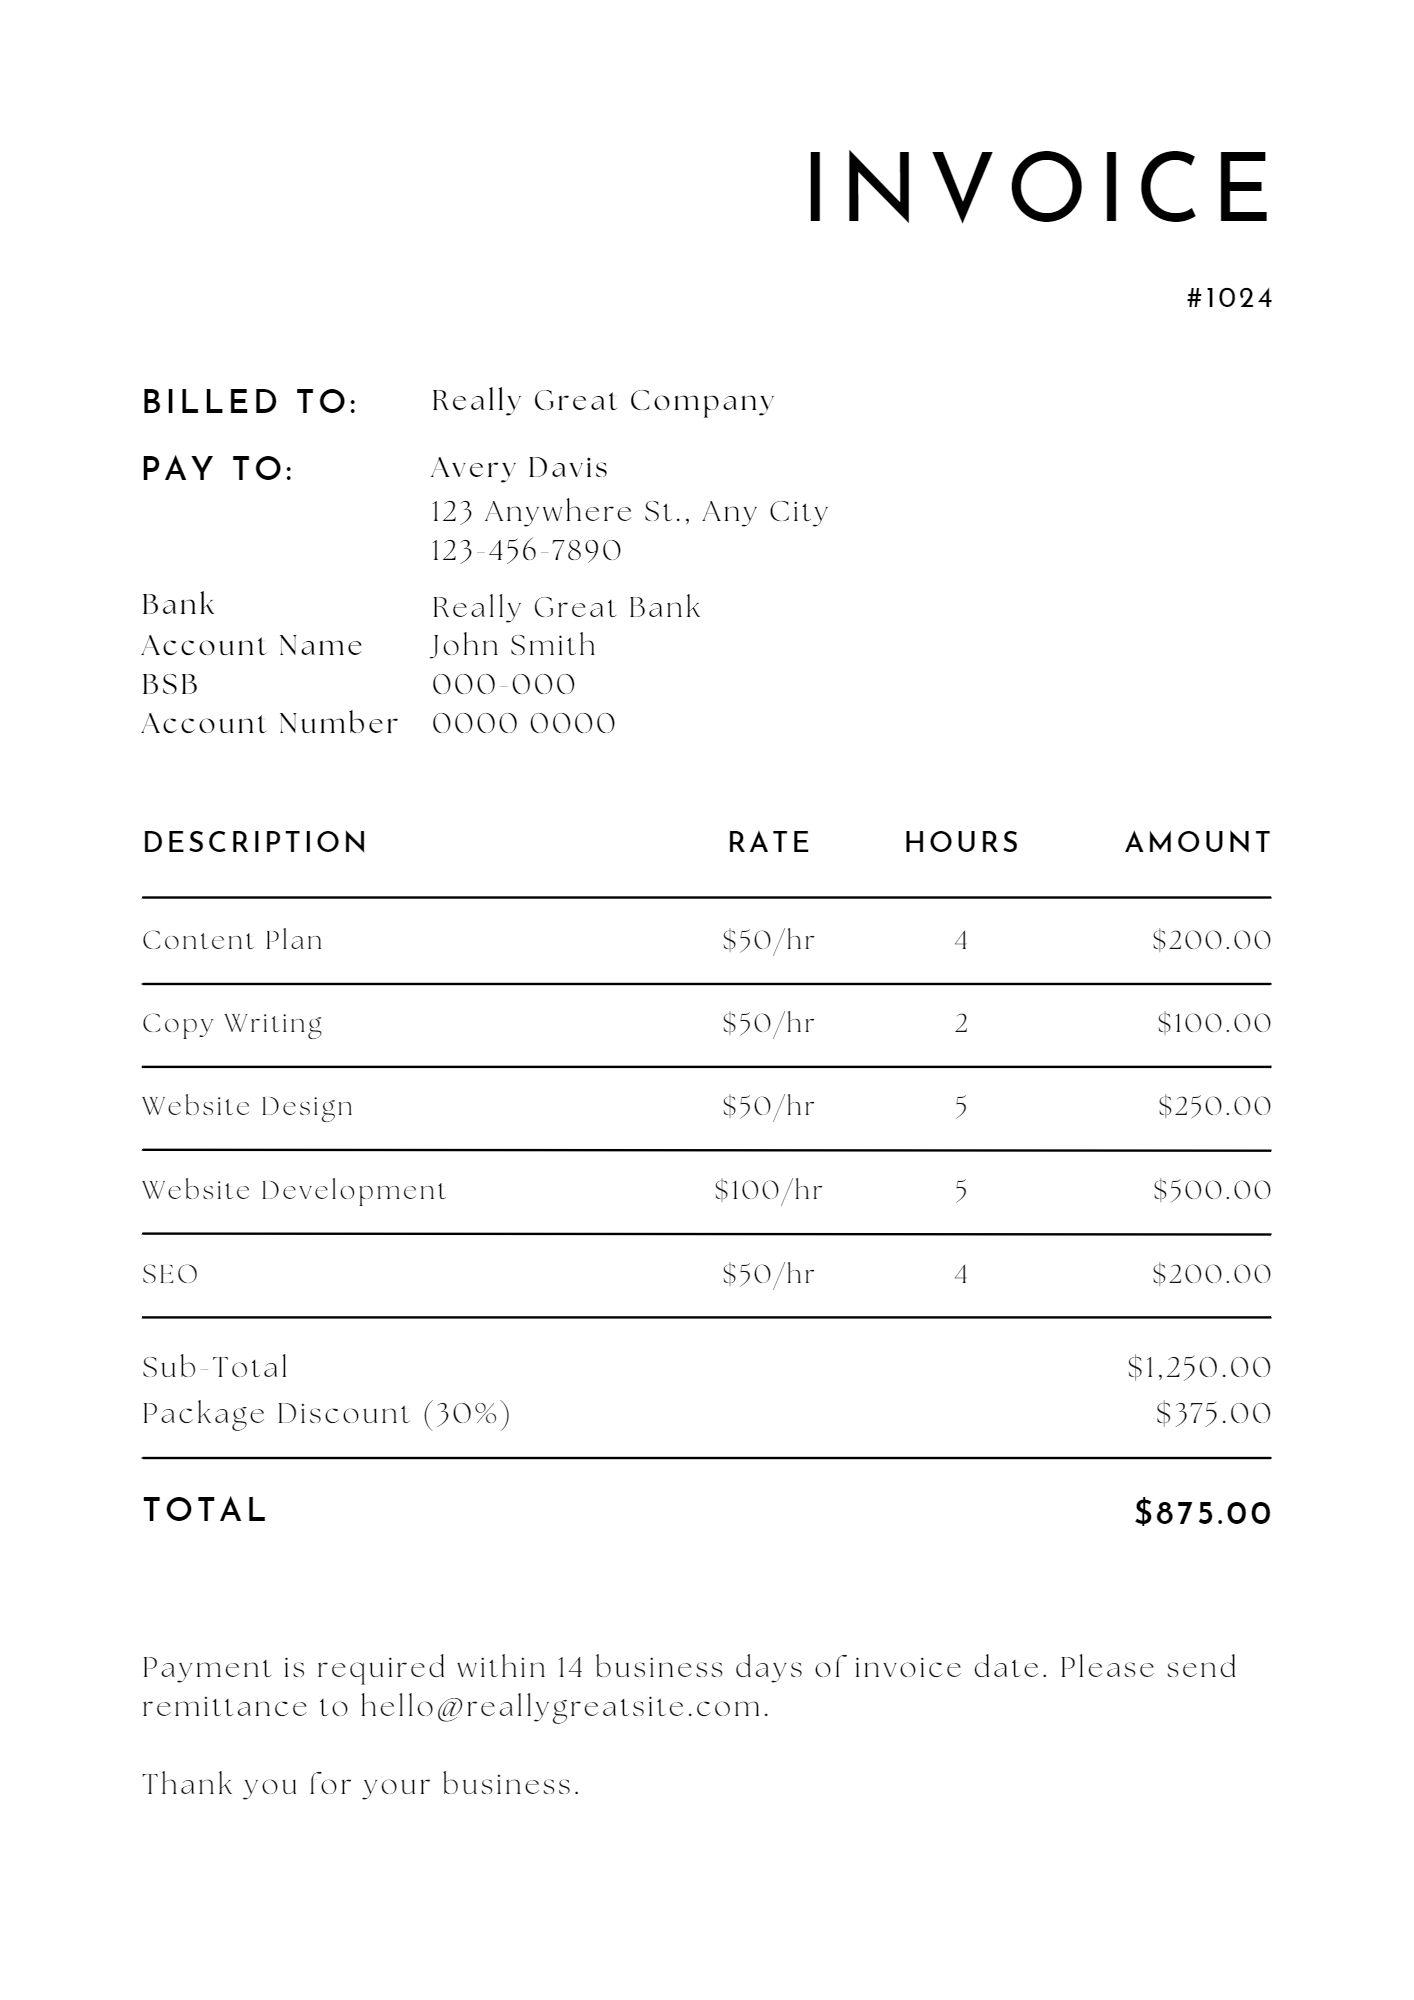ROI: (122, 799, 1287, 1559)
